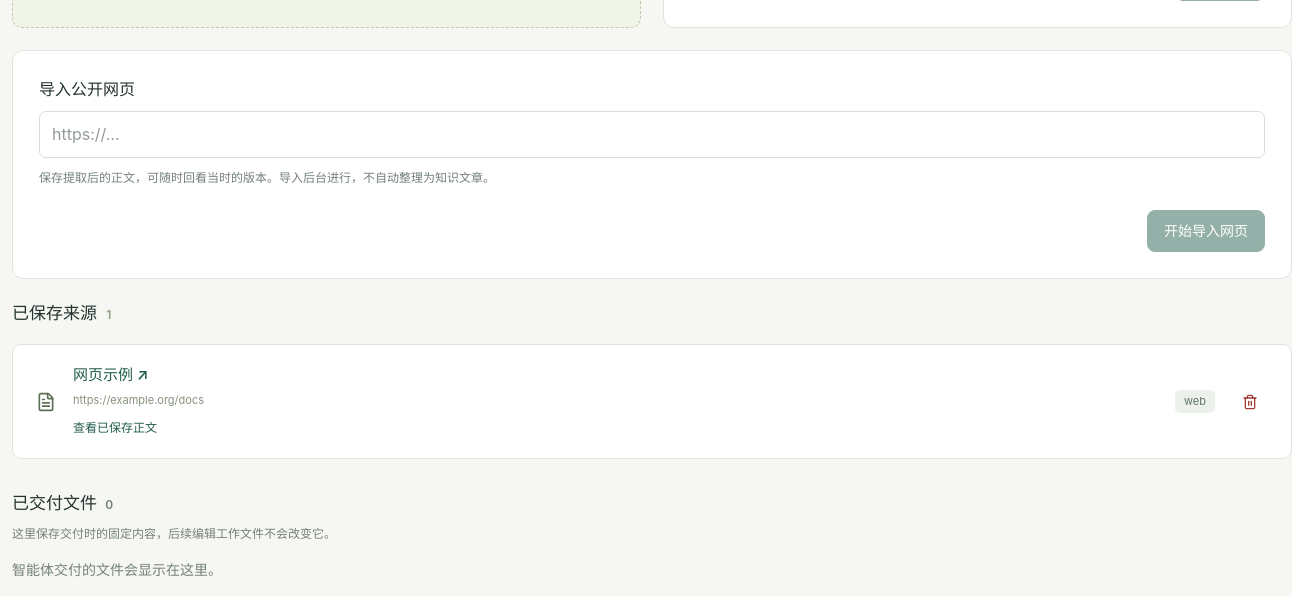
Test case: offers original website and saved body separately without an HTML download
(page scrolled)
Click the link "查看已保存正文".
click(115, 428)  # box [73,418,157,437]
(page scrolled)
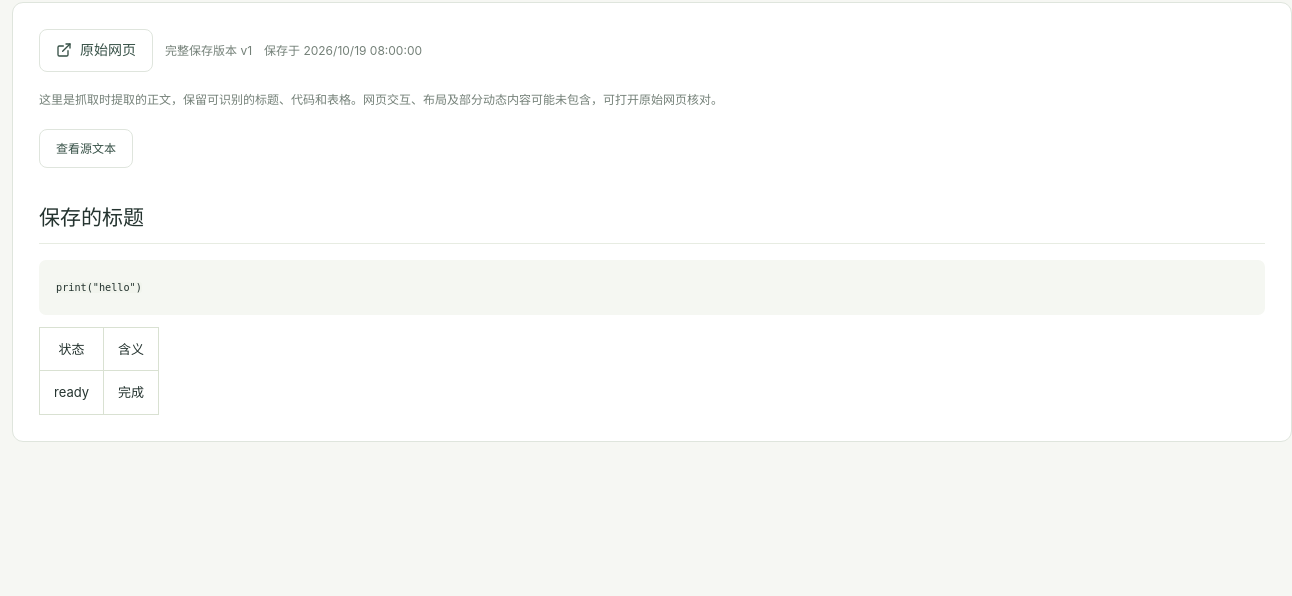
Expected: the heading "保存的标题" is shown, [39,202,1265,244]
Expected: the table shows "完成", [118,384,144,400]
Expected: the text "print(\"hello\")" is shown, [56,282,142,293]
